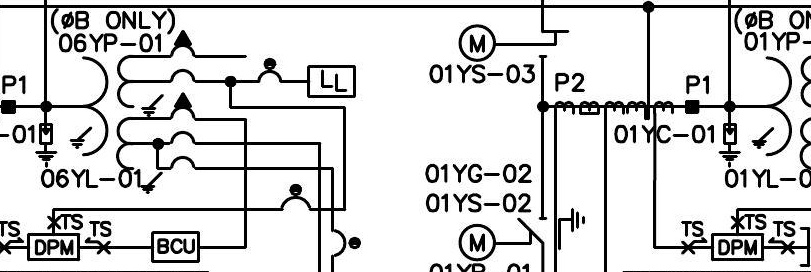115_1way_ds_w_motor: (457, 23, 570, 63)
115_3ways_ds_w_motor: (458, 207, 586, 262)
115_la: (34, 123, 58, 169), (718, 123, 742, 169)
115_vt_1p: (68, 29, 197, 195)
BCU: (150, 230, 201, 264)
DPM: (26, 232, 80, 262), (710, 233, 764, 261)
LL: (307, 65, 356, 98)
